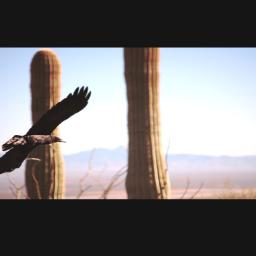Crow: (0, 84, 94, 179)
